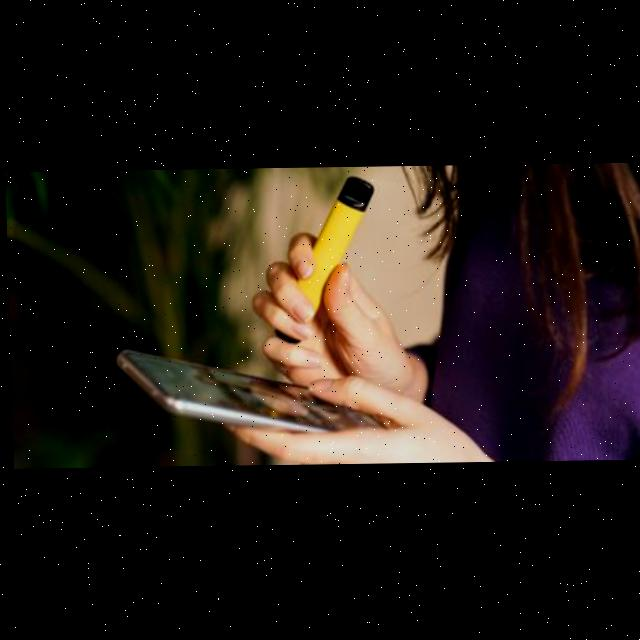vape: (294, 175, 378, 314)
